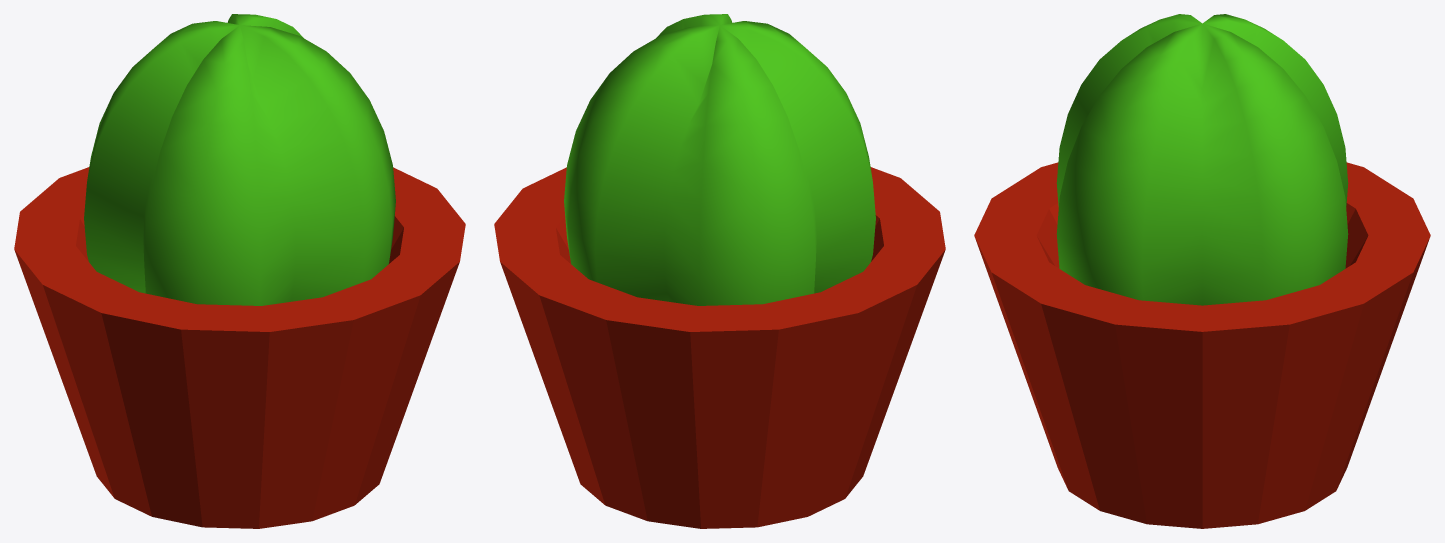
The model's file is tanamanDinding1.obj.
3 renders of one model, left to right at view 1: azimuth 30°, elevation 25°; view 2: azimuth 150°, elevation 25°; view 3: azimuth 270°, elevation 25°, orthographic.
Visible parts, largest first — view 1: Succulent_Cylinder.001; view 2: Succulent_Cylinder.001; view 3: Succulent_Cylinder.001.
Boxes of the visible parts, x1=… form: Succulent_Cylinder.001: x1=14, y1=14, x2=465, y2=528; Succulent_Cylinder.001: x1=494, y1=14, x2=945, y2=528; Succulent_Cylinder.001: x1=974, y1=14, x2=1430, y2=528.
Bounding box in the file's own units: 0.3821 × 0.4102 × 0.3821.
